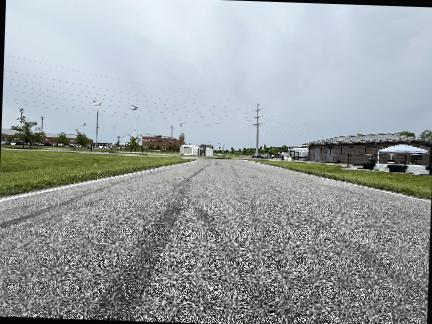Grass: (0, 149, 188, 196), (255, 160, 431, 199)
Lane: (0, 159, 430, 323)
